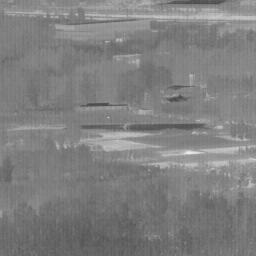aircraft: (108, 116, 110, 118)
